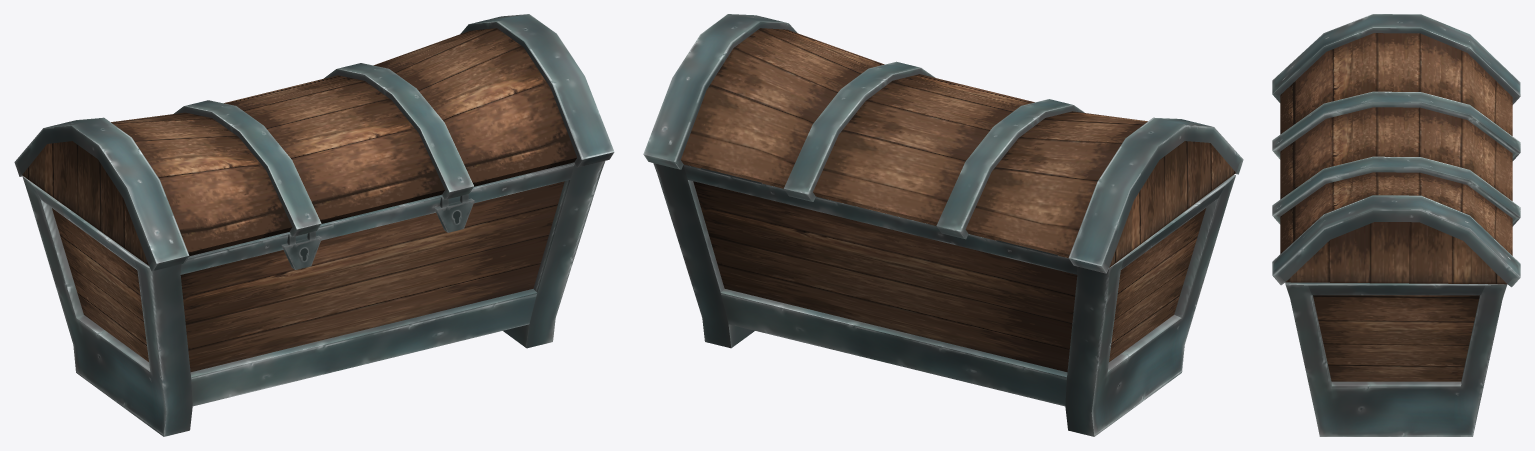
Rendered from chest_008.FBX.
3 views of the same model, side by side, from view 1: azimuth 30°, elevation 25°; view 2: azimuth 150°, elevation 25°; view 3: azimuth 270°, elevation 25° (orthographic). The views are drawn at different scales.
Visible parts, largest first — view 1: chest_0084, chest; view 2: chest_0084, chest; view 3: chest, chest_0084.
Boxes of the visible parts, x1=… form: chest_0084: x1=22, y1=161, x2=605, y2=436; chest: x1=14, y1=14, x2=614, y2=271; chest_0084: x1=653, y1=163, x2=1235, y2=436; chest: x1=643, y1=14, x2=1243, y2=273; chest: x1=1272, y1=14, x2=1520, y2=287; chest_0084: x1=1285, y1=282, x2=1507, y2=436.
Bounding box in the file's own units: 26.29 × 15.08 × 13.99.
